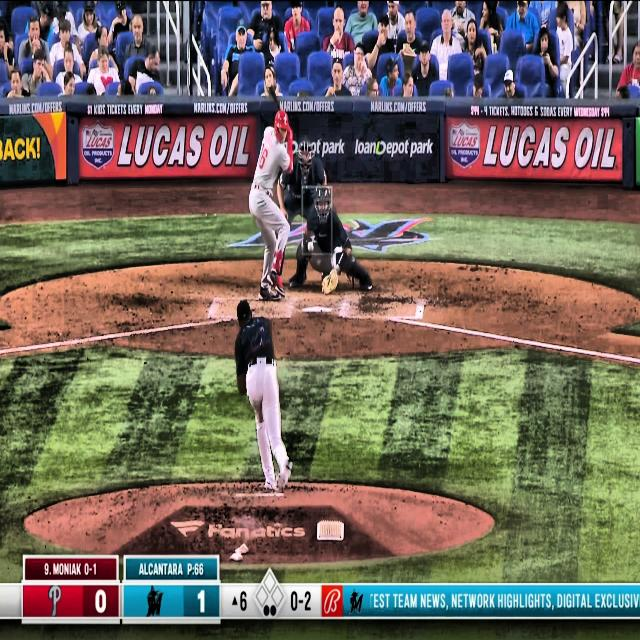baseball: (306, 240, 314, 254)
